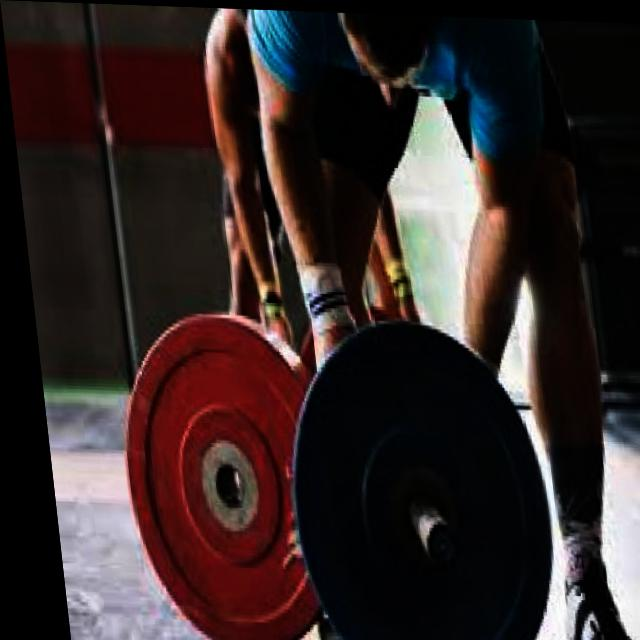barbell: (259, 307, 556, 640)
